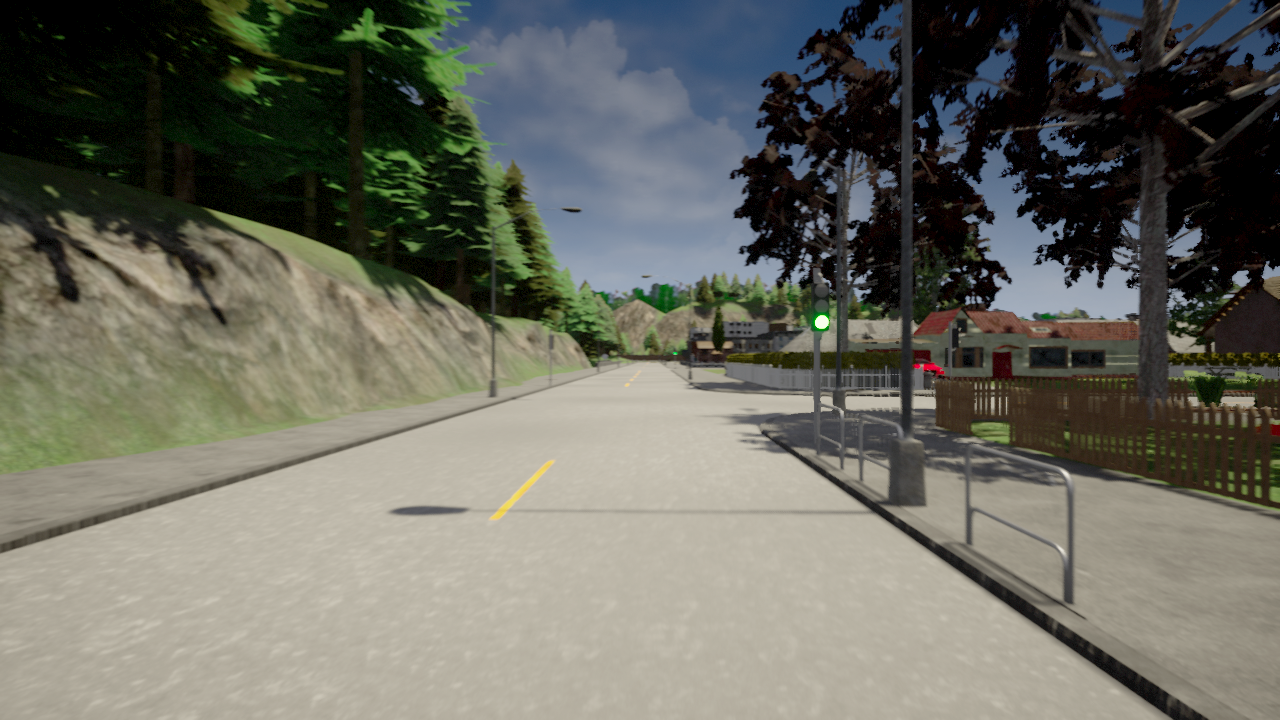green: (810, 280, 833, 331)
